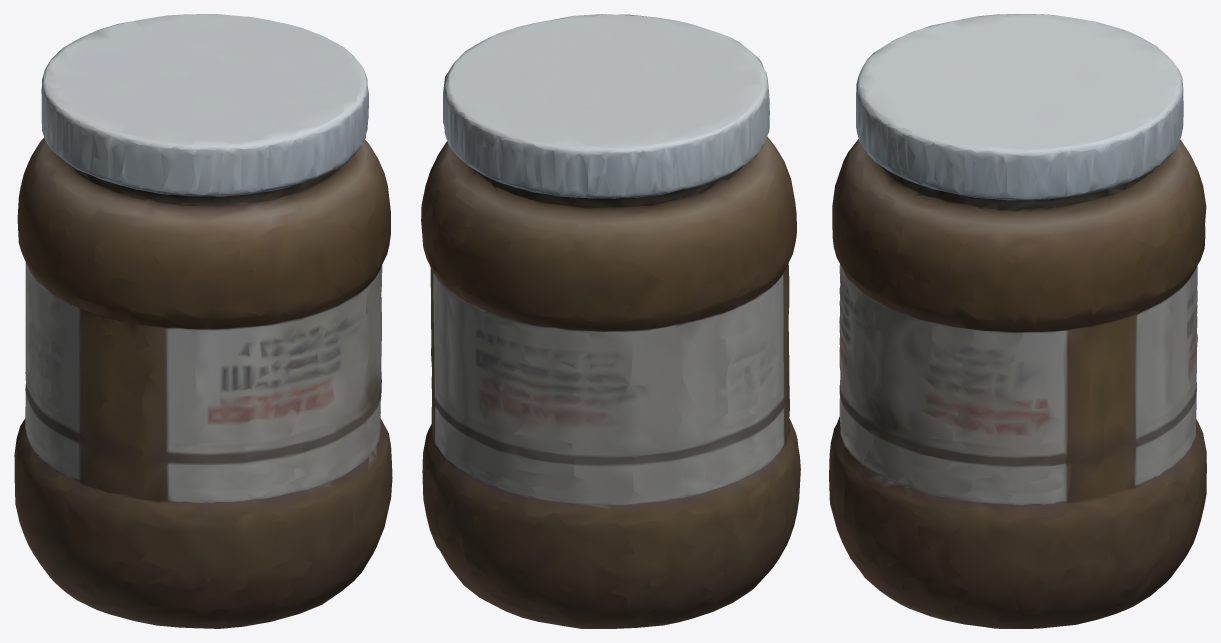
Rendered from 0004_mask_005_chocolate_spread_jar.glb.
3 views of the same model, side by side, from view 1: azimuth 30°, elevation 25°; view 2: azimuth 150°, elevation 25°; view 3: azimuth 270°, elevation 25° (orthographic).
Parts seen in each view (by area): view 1: mask_005_object; view 2: mask_005_object; view 3: mask_005_object.
Boxes of the visible parts, x1=… form: mask_005_object: x1=14, y1=14, x2=392, y2=628; mask_005_object: x1=421, y1=14, x2=800, y2=628; mask_005_object: x1=829, y1=14, x2=1206, y2=628.
Bounding box in the file's own units: 0.1328 × 0.1902 × 0.1326.
